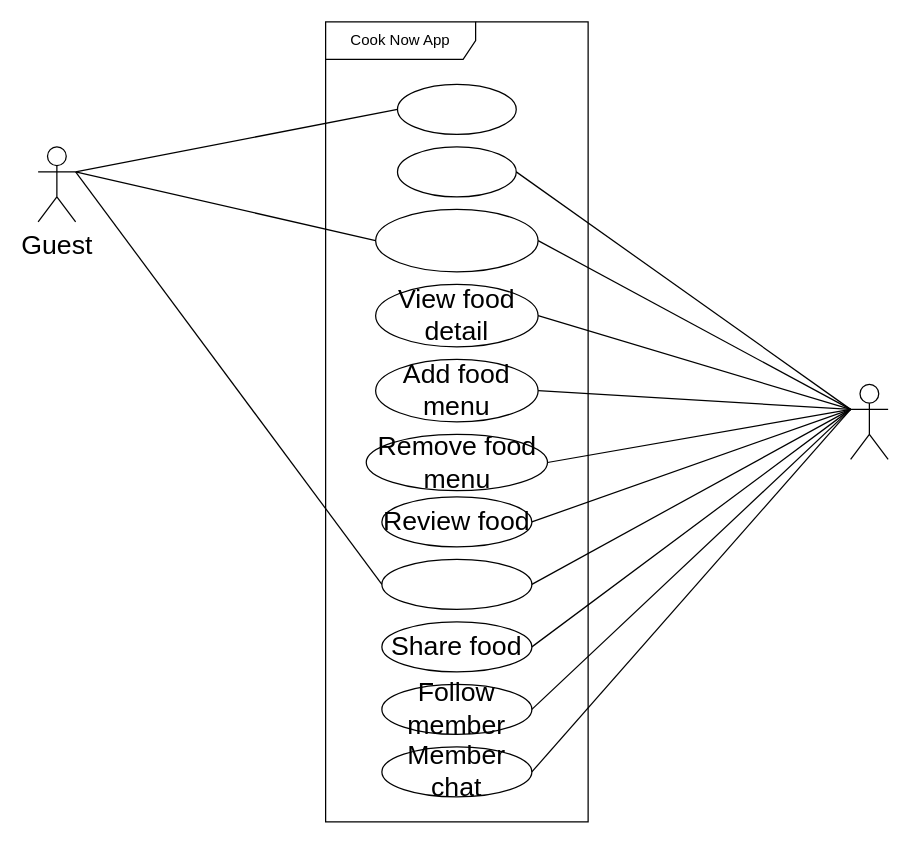
This 919x844 diagram has some shape labels left out. Here are the shapes that lost their labels. From the top down, the box of each, then its label:
(396, 83, 516, 134): Register
(396, 146, 516, 197): Login
(374, 208, 538, 272): View food menu
(849, 383, 888, 459): User
(381, 558, 532, 609): Search food
